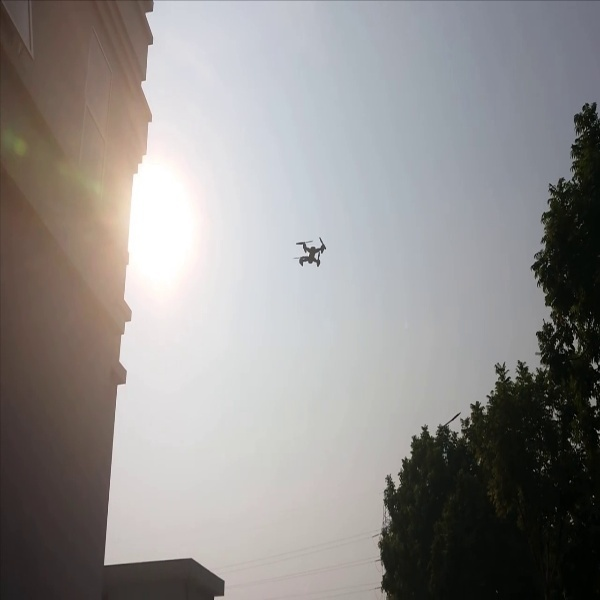drone: (292, 227, 331, 276)
